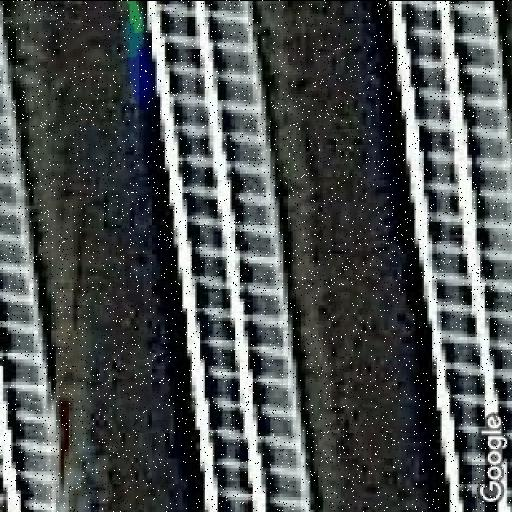solar-panel: (147, 0, 307, 512), (398, 0, 512, 512), (0, 0, 58, 512)
